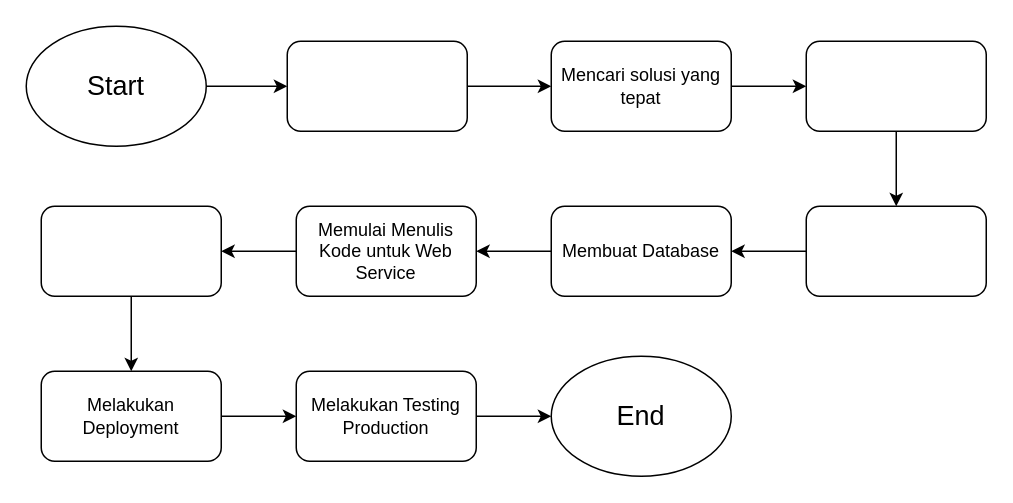
Image size: 1013x503. Some labels were removed from this diagram. Each missing label, with the centre of its shape:
"Melakukan Testing Development" belongs at pixel 130 250.
"Memahami permasalahan yang telah diberikan" belongs at pixel 376 85.
"Menentukan teknologi yang akan digunakan" belongs at pixel 895 85.
"Merancang Repository GitHub Organization" belongs at pixel 895 250.
